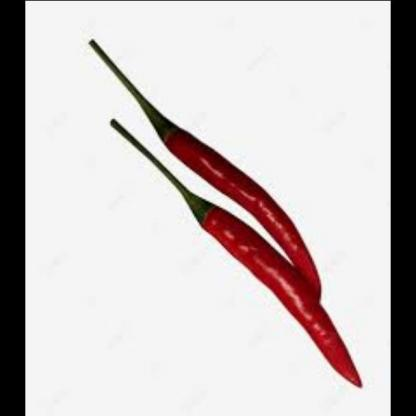hot pepper: (89, 39, 324, 302), (126, 134, 360, 382)
